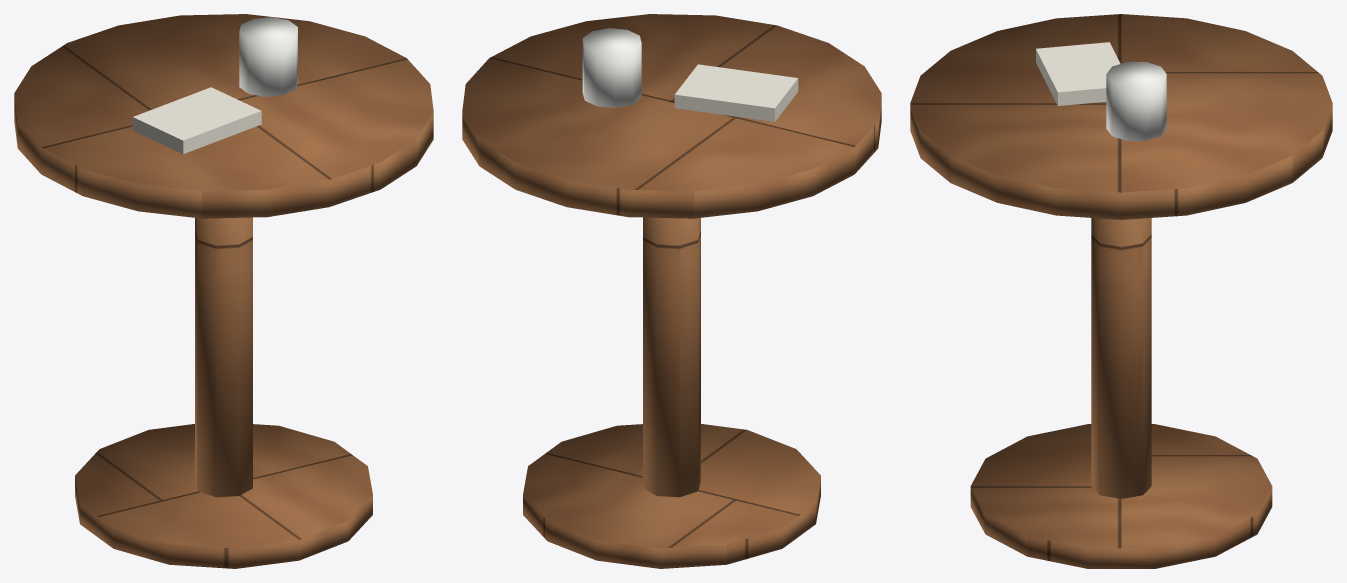
Rendered from side_table.gltf.
3 views of the same model, side by side, from view 1: azimuth 30°, elevation 25°; view 2: azimuth 150°, elevation 25°; view 3: azimuth 270°, elevation 25° (orthographic).
Visible parts, largest first — view 1: side_table_mesh; view 2: side_table_mesh; view 3: side_table_mesh.
Boxes of the visible parts, x1,y1,x2,y2 form: side_table_mesh: (14,14,433,568); side_table_mesh: (462,14,881,568); side_table_mesh: (910,14,1332,568).
Size of the model in its own units: 0.56 by 0.67 by 0.56.
3 materials, 1 textured.
